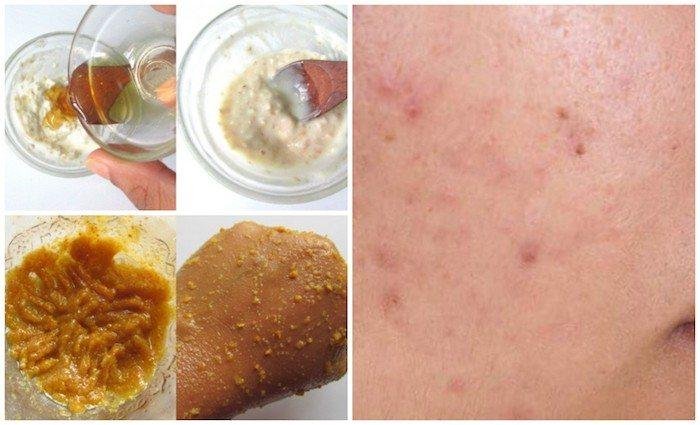Acne: (354, 13, 682, 409)
